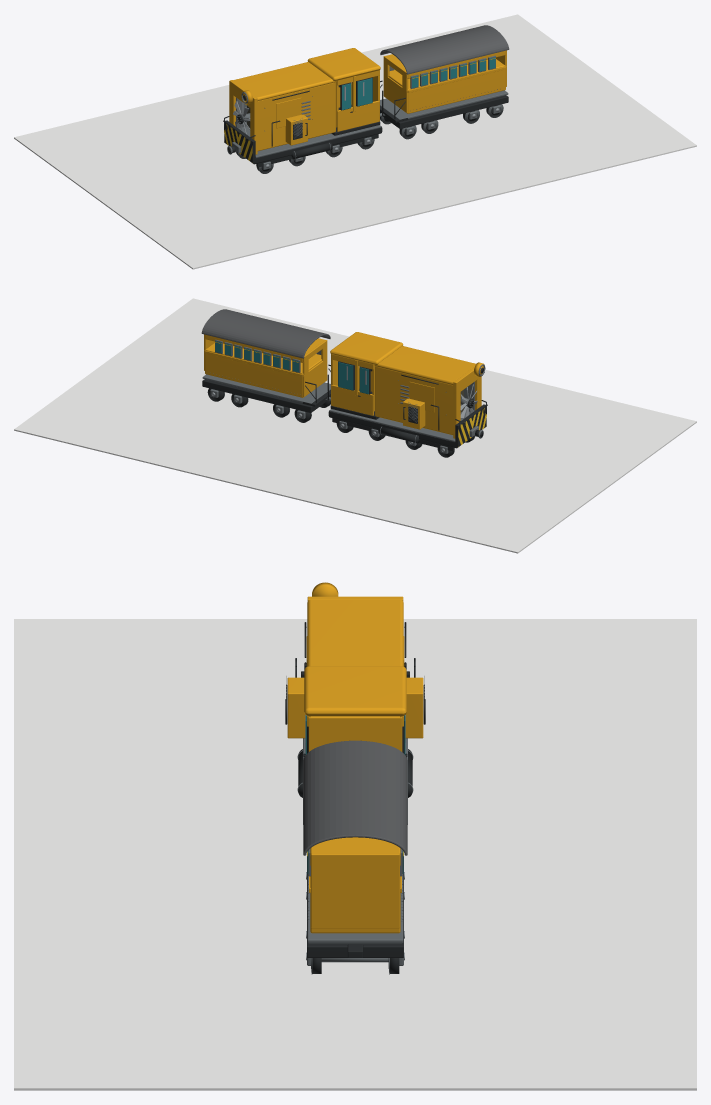
File: locomotora.glb
3 renders of one model, top to bottom at view 1: azimuth 30°, elevation 25°; view 2: azimuth 150°, elevation 25°; view 3: azimuth 270°, elevation 25°, orthographic. The views are drawn at different scales.
Visible parts, largest first — view 1: Suelo blanco para render, Techo curvo gris del vagon, Capo panel lateral, Vagon pared inferior, Capo techo largo, Cabina techo, VAGON - chasis, Cabina pared lateral baja, Vagon piso, Piso metalico de pasarela, LOCOMOTORA - bastidor longitudinal, Testero frontal inferior vagon (+4 smaller); view 2: Suelo blanco para render, Techo curvo gris del vagon, Capo panel lateral.001, Vagon pared inferior, Capo techo largo, Cabina techo, VAGON - chasis, Cabina pared lateral baja.001, Vagon piso, Piso metalico de pasarela, LOCOMOTORA - bastidor longitudinal, Testero frontal inferior vagon (+4 smaller); view 3: Suelo blanco para render, Techo curvo gris del vagon, Testero trasero vagon, Capo techo largo, Cabina techo, Cabina pared trasera, VAGON - chasis, Vagon piso, Vagon pared superior, Caja auxiliar ventilada, Caja auxiliar ventilada.001.
Boxes of the visible parts, x1,y1,x2,y2 form: Suelo blanco para render: (14, 14, 696, 269); Techo curvo gris del vagon: (380, 25, 509, 74); Capo panel lateral: (257, 82, 335, 151); Vagon pared inferior: (388, 59, 505, 113); Capo techo largo: (233, 62, 336, 100); Cabina techo: (307, 48, 380, 80); VAGON - chasis: (380, 95, 508, 128); Cabina pared lateral baja: (337, 101, 379, 131); Vagon piso: (380, 90, 508, 119); Piso metalico de pasarela: (255, 125, 381, 157); LOCOMOTORA - bastidor longitudinal: (253, 126, 382, 164); Testero frontal inferior vagon: (383, 77, 407, 112); Suelo blanco para render: (14, 298, 696, 553); Techo curvo gris del vagon: (201, 309, 330, 358); Capo panel lateral.001: (375, 366, 453, 435); Vagon pared inferior: (205, 343, 322, 397); Capo techo largo: (374, 346, 475, 384); Cabina techo: (330, 332, 403, 364); VAGON - chasis: (202, 379, 330, 412); Cabina pared lateral baja.001: (331, 385, 373, 415); Vagon piso: (202, 374, 330, 403); Piso metalico de pasarela: (329, 409, 455, 441); LOCOMOTORA - bastidor longitudinal: (328, 410, 457, 448); Testero frontal inferior vagon: (303, 361, 327, 396); Suelo blanco para render: (14, 619, 696, 1090); Techo curvo gris del vagon: (303, 740, 407, 855); Testero trasero vagon: (311, 853, 399, 928); Capo techo largo: (307, 599, 403, 666); Cabina techo: (304, 666, 406, 716); Cabina pared trasera: (308, 716, 402, 751); VAGON - chasis: (307, 856, 403, 957); Vagon piso: (307, 874, 403, 943); Vagon pared superior: (310, 837, 400, 865); Caja auxiliar ventilada: (287, 677, 305, 738); Caja auxiliar ventilada.001: (405, 677, 423, 738).
Size of the model in its own units: 26 by 4.22 by 16.
